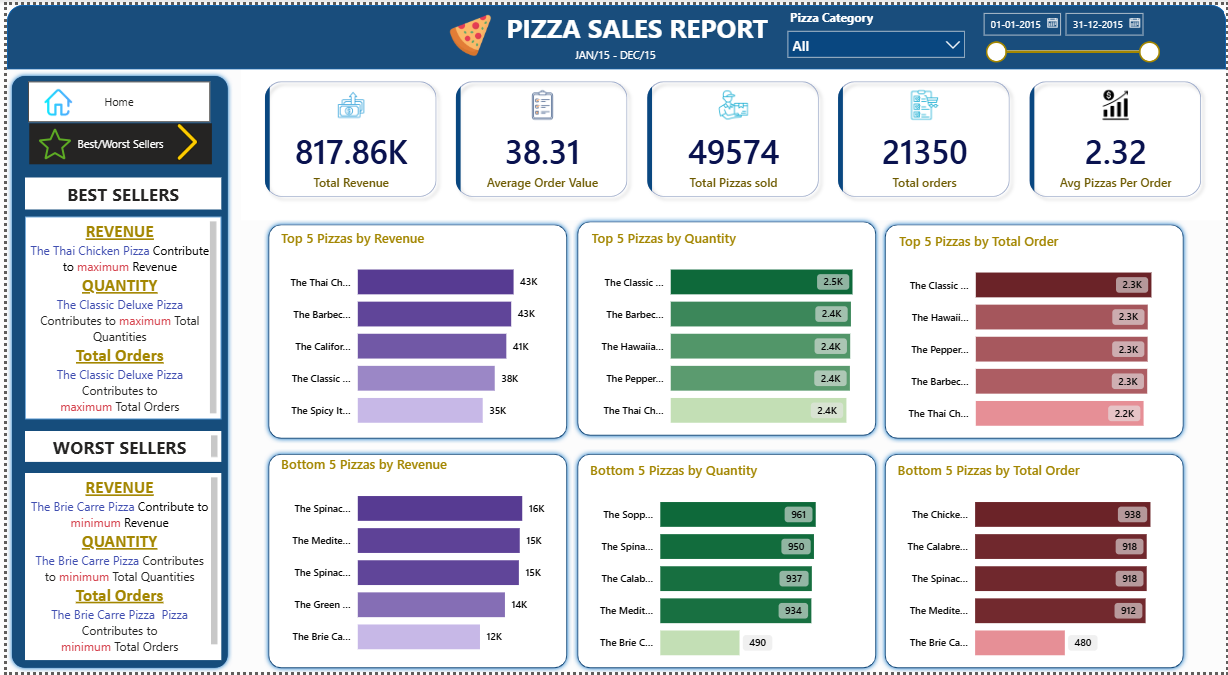

Layout of this report page (visuals, bound fields, positions):
{"tool":"powerbi","page":{"name":"Best/Worst Sellers","canvas":[1500,820],"ordinal":1},"visuals":[{"type":"shape","box":[0,81.1,277.4,739.6],"z":0},{"type":"cardVisual","fields":{"Data":["pizza_sales.Total Revenue","pizza_sales.Average Order Value","pizza_sales.Total Pizzas sold","pizza_sales.Total orders","pizza_sales.Avg Pizzas Per Order"]},"box":[286.8,64.2,1213.2,200],"z":1000},{"type":"shape","box":[0,0,1500,79.2],"z":2000},{"type":"textbox","box":[558,0,432,66],"z":3000},{"type":"textbox","box":[693.8,45.8,110.4,36.1],"z":4000},{"type":"image","box":[528.3,11.3,84.9,52.8],"z":5000},{"type":"shape","box":[315.1,264.2,379.2,275.5],"z":6000},{"type":"textbox","box":[22.6,211.3,241.5,39.6],"z":7000},{"type":"textbox","box":[22.6,260.4,241.5,249.1],"z":8000},{"type":"textbox","box":[22.6,524.5,241.5,37.7],"z":9000},{"type":"textbox","box":[22.6,575.5,241.5,230.2],"z":10000},{"type":"slicer","fields":{"Values":["pizza_sales.pizza_category"]},"box":[949.1,0,237.7,79.2],"z":11000},{"type":"slicer","fields":{"Values":["pizza_sales.order_date"]},"box":[1186.8,0,237.7,79.2],"z":12000},{"type":"shape","box":[694.3,260.4,379.2,275.5],"z":13000},{"type":"shape","box":[1073.6,264.2,379.2,275.5],"z":14000},{"type":"shape","box":[315.1,545.3,379.2,275.5],"z":15000},{"type":"shape","box":[694.3,545.3,379.2,275.5],"z":16000},{"type":"shape","box":[1073.6,545.3,379.2,275.5],"z":17000},{"type":"barChart","title":"Top 5 Pizzas by Revenue","fields":{"Category":["pizza_sales.pizza_name"],"Y":["pizza_sales.Total Revenue"]},"box":[332.1,275.5,345.3,260.4],"z":18000},{"type":"barChart","title":"Bottom 5 Pizzas by Revenue","fields":{"Category":["pizza_sales.pizza_name"],"Y":["pizza_sales.Total Revenue"]},"box":[332.1,552.8,345.3,260.4],"z":19000},{"type":"barChart","title":"Top 5 Pizzas by Quantity","fields":{"Category":["pizza_sales.pizza_name"],"Y":["pizza_sales.Total Pizzas sold"]},"box":[713.2,275.5,354.7,260.4],"z":20000},{"type":"barChart","title":"Bottom 5 Pizzas by Quantity","fields":{"Category":["pizza_sales.pizza_name"],"Y":["pizza_sales.Total Pizzas sold"]},"box":[711.3,560.4,311.3,260.4],"z":21000},{"type":"barChart","title":"Top 5 Pizzas by Total Order","fields":{"Category":["pizza_sales.pizza_name"],"Y":["pizza_sales.Total orders"]},"box":[1092.5,279.2,345.3,260.4],"z":22000},{"type":"barChart","title":"Bottom 5 Pizzas by Total Order","fields":{"Category":["pizza_sales.pizza_name"],"Y":["pizza_sales.Total orders"]},"box":[1090.6,560.4,347.2,260.4],"z":23000},{"type":"pageNavigator","box":[28.3,145.3,224.5,50.9],"z":23001},{"type":"pageNavigator","box":[26.4,94.3,224.5,50.9],"z":23002},{"type":"image","box":[192.5,145.3,60.4,45.3],"z":23003},{"type":"image","box":[45.3,94.3,34,50.9],"z":23004},{"type":"image","box":[24.5,150.9,69.8,39.6],"z":23005}]}

Visuals, with their boxes in screenshot pixels (x1, y1, x2, y2), scaled from the page's 1500x820 canvas onto the 1228x675 screenshot:
shape: 0 67 227 674
cardVisual - pizza_sales.Total Revenue x pizza_sales.Average Order Value: 235 53 1227 217
shape: 0 0 1227 65
textbox: 457 0 810 54
textbox: 568 38 658 67
image: 433 9 502 53
shape: 258 217 568 444
textbox: 19 174 216 207
textbox: 19 214 216 419
textbox: 19 432 216 463
textbox: 19 474 216 663
slicer - pizza_sales.pizza_category: 777 0 972 65
slicer - pizza_sales.order_date: 972 0 1166 65
shape: 568 214 879 441
shape: 879 217 1189 444
shape: 258 449 568 674
shape: 568 449 879 674
shape: 879 449 1189 674
"Top 5 Pizzas by Revenue" barChart: 272 227 555 441
"Bottom 5 Pizzas by Revenue" barChart: 272 455 555 669
"Top 5 Pizzas by Quantity" barChart: 584 227 874 441
"Bottom 5 Pizzas by Quantity" barChart: 582 461 837 674
"Top 5 Pizzas by Total Order" barChart: 894 230 1177 444
"Bottom 5 Pizzas by Total Order" barChart: 893 461 1177 674
pageNavigator: 23 120 207 162
pageNavigator: 22 78 205 120
image: 158 120 207 157
image: 37 78 65 120
image: 20 124 77 157
